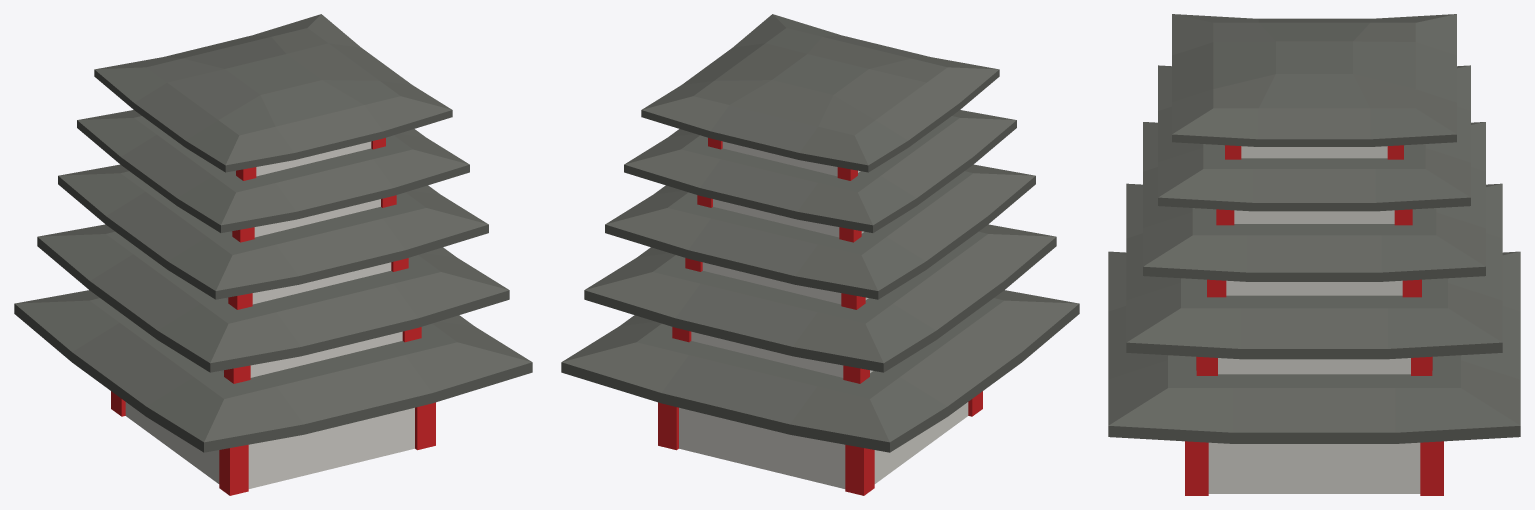
Rendered from JapanTemple1.fbx.
The picture shows the model from 3 angles, left to right: view 1: azimuth 30°, elevation 25°; view 2: azimuth 150°, elevation 25°; view 3: azimuth 270°, elevation 25°; orthographic projection. The views are drawn at different scales.
Parts seen in each view (by area): view 1: Cube.000; view 2: Cube.000; view 3: Cube.000.
Part boxes in pixels (x1,y1,x2,y2): Cube.000: [14, 14, 532, 495]; Cube.000: [561, 14, 1079, 495]; Cube.000: [1108, 14, 1520, 495].
Size of the model in its own units: 662 by 680 by 662.
